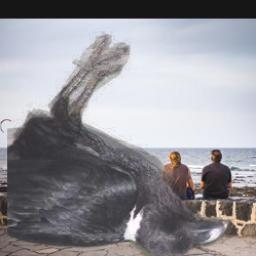Crow: (6, 31, 229, 256)
